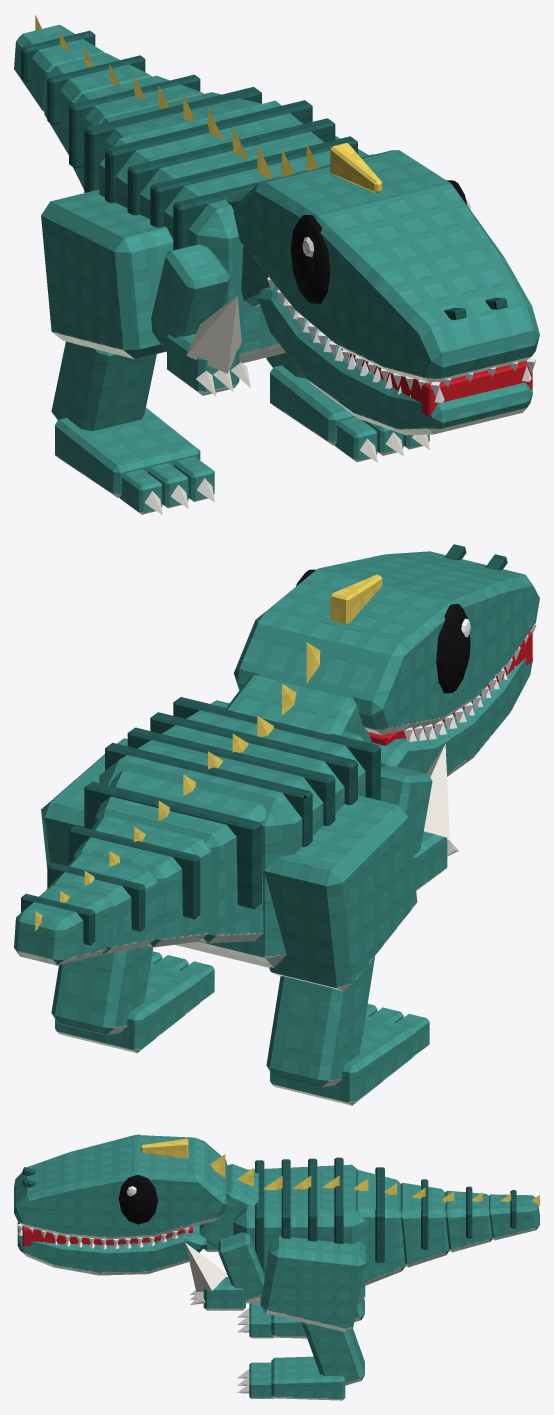
Rendered from bebe_16_Baryonyx.glb.
3 renders of one model, top to bottom at view 1: azimuth 30°, elevation 25°; view 2: azimuth 150°, elevation 25°; view 3: azimuth 270°, elevation 25°, orthographic. The views are drawn at different scales.
Parts seen in each view (by area): view 1: bebe_16_Baryonyx; view 2: bebe_16_Baryonyx; view 3: bebe_16_Baryonyx.
Part boxes in pixels (<box>): bebe_16_Baryonyx: <box>14,15,539,515</box>; bebe_16_Baryonyx: <box>14,544,539,1105</box>; bebe_16_Baryonyx: <box>14,1134,539,1400</box>.
Size of the model in its own units: 2.2 by 2.62 by 5.72.
Materials: 1 (1 with a texture image).
